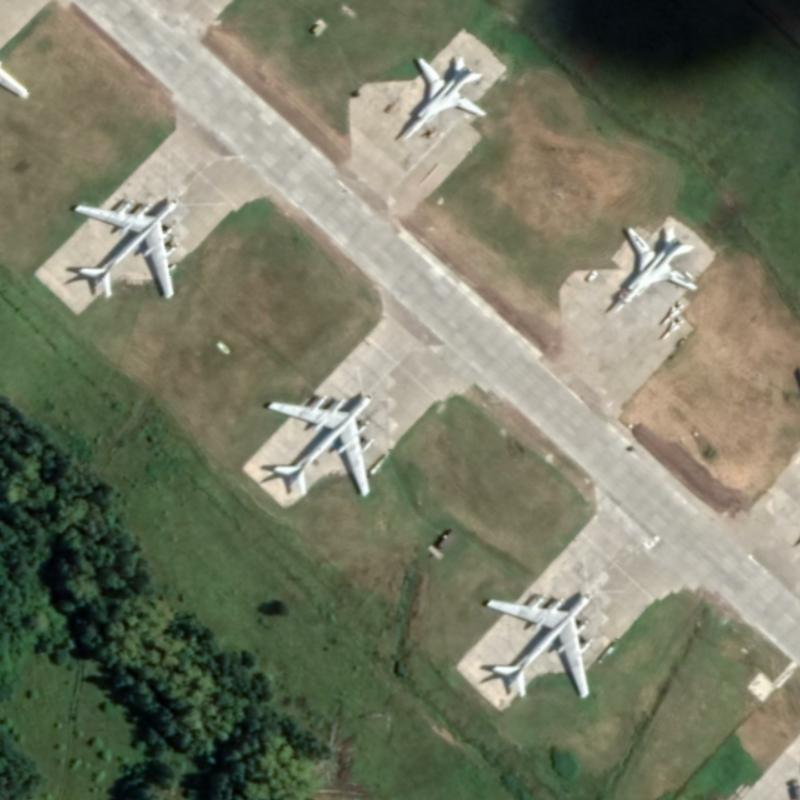A12: (609, 223, 699, 313), (400, 54, 488, 142)
A17: (483, 591, 592, 700), (265, 392, 373, 498), (71, 195, 178, 300)
